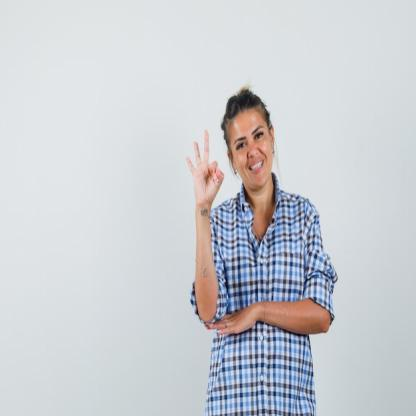ok: (183, 125, 225, 208)
